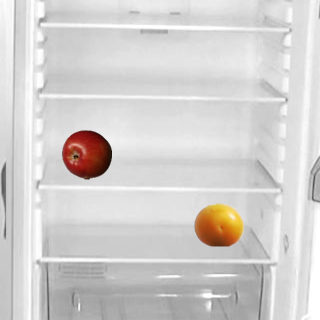Apple Braeburn: (61, 129, 111, 179)
Cherry Wax Yellow: (193, 199, 243, 249)
